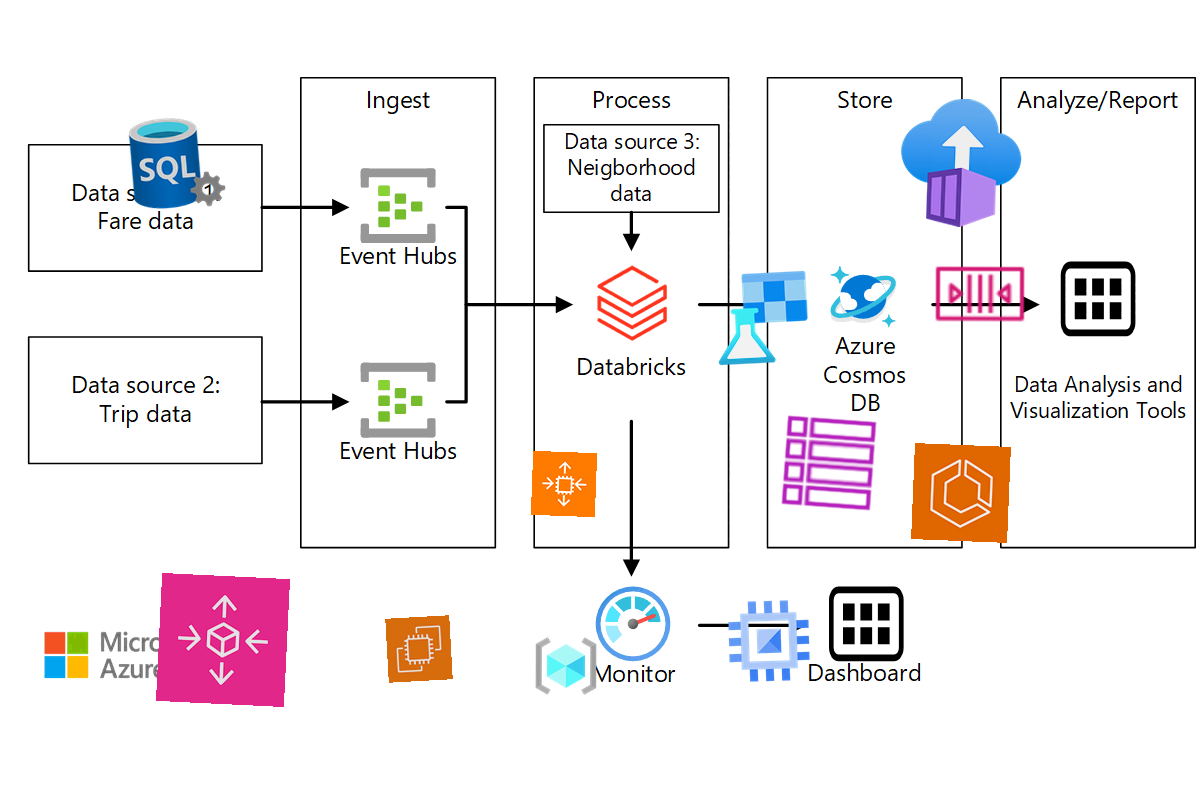aws_amazon_ec2: (385, 615, 453, 683)
aws_amazon_ec2_auto_scaling: (530, 450, 598, 518)
aws_amazon_elastic_container_service: (911, 443, 1011, 543)
aws_auto_scaling: (155, 572, 291, 708)
aws_dynamodb_table: (777, 411, 881, 515)
aws_simple_queue_service_queue: (931, 244, 1029, 342)
azure_container_instances: (894, 96, 1028, 230)
azure_machine_learning_studio_workspaces: (711, 267, 813, 369)
azure_resource_groups: (533, 633, 599, 699)
azure_sql_server: (125, 111, 229, 215)
gcp_compute_engine: (719, 591, 819, 691)
